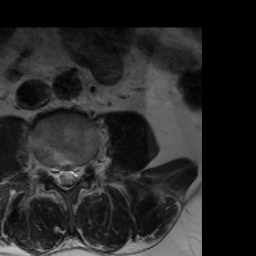CCS_normal: (61, 159, 71, 196)
LFS_normal: (80, 158, 90, 182)
LLS_normal: (71, 162, 79, 187)
RFS_normal: (42, 160, 53, 186)
RLS_normal: (53, 162, 63, 189)
